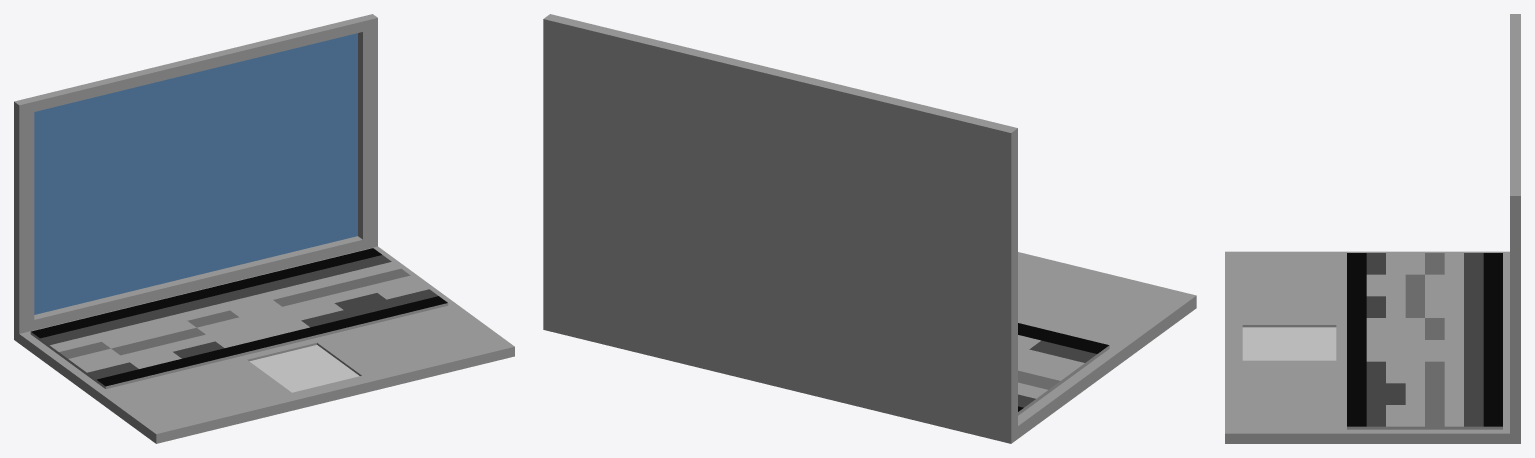
The model's file is Laptop.fbx.
3 views of the same model, side by side, from view 1: azimuth 30°, elevation 25°; view 2: azimuth 150°, elevation 25°; view 3: azimuth 270°, elevation 25° (orthographic). The views are drawn at different scales.
Visible parts, largest first — view 1: Laptop; view 2: Laptop; view 3: Laptop.
Part boxes in pixels (left/top/right/bottom): Laptop: left=14, top=14, right=514, bottom=443; Laptop: left=543, top=14, right=1196, bottom=443; Laptop: left=1225, top=14, right=1520, bottom=443.
Size of the model in its own units: 119 by 75.68 by 81.85.
